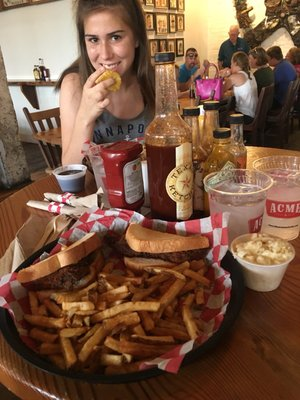pizza: (205, 168, 273, 251), (251, 155, 300, 246), (54, 164, 87, 194)
sushi: (229, 233, 296, 292), (54, 164, 87, 194)
